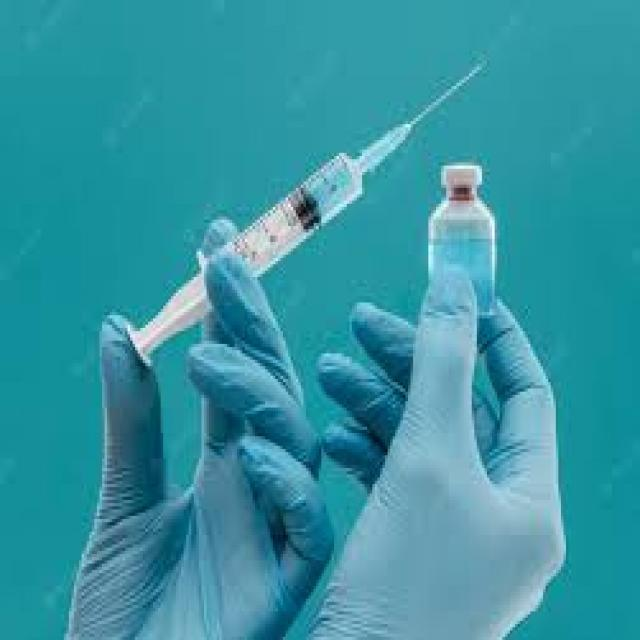syringe: (143, 59, 467, 372)
